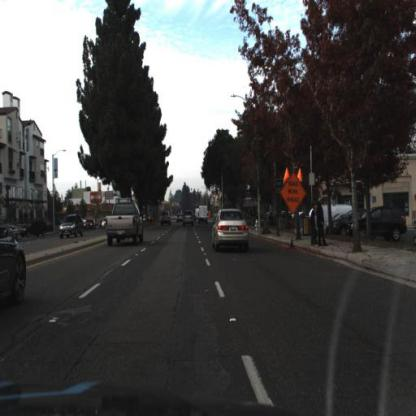car: (1, 216, 30, 315), (100, 196, 149, 250), (348, 204, 410, 246), (207, 202, 254, 256), (58, 210, 87, 241), (332, 211, 363, 240), (195, 200, 212, 231), (179, 207, 198, 233), (158, 209, 174, 234), (199, 203, 211, 223), (84, 217, 98, 233), (100, 217, 108, 233)
pedestrian: (317, 193, 330, 250), (308, 200, 318, 248), (318, 197, 326, 246), (309, 202, 316, 244)
truck: (320, 204, 355, 226)
